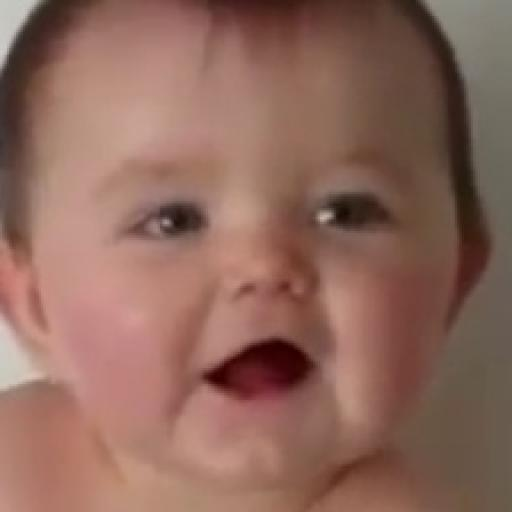Autism: (6, 3, 474, 499)
